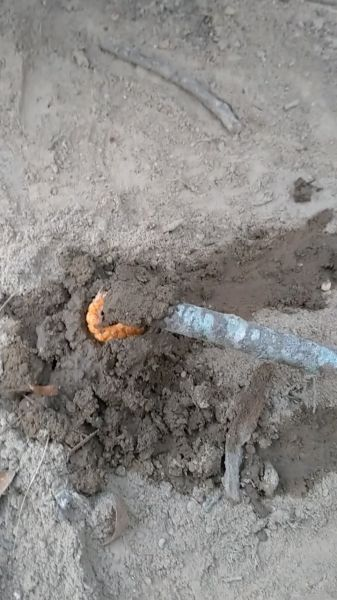eggs: (79, 284, 154, 342)
